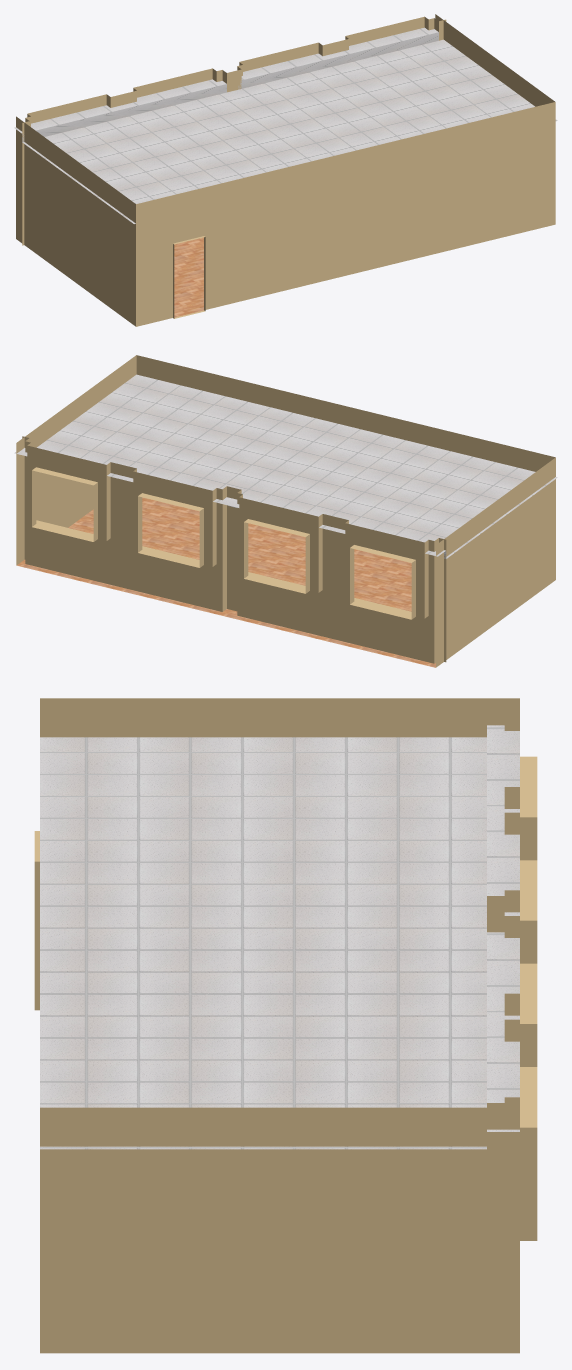
The model's file is room4_1.glb.
3 renders of one model, top to bottom at view 1: azimuth 30°, elevation 25°; view 2: azimuth 150°, elevation 25°; view 3: azimuth 270°, elevation 25°, orthographic. The views are drawn at different scales.
Parts seen in each view (by area): view 1: 4et.010; view 2: 4et.010; view 3: 4et.010.
Part boxes in pixels (left/top/right/bottom): 4et.010: left=14, top=14, right=557, bottom=326; 4et.010: left=14, top=355, right=557, bottom=667; 4et.010: left=34, top=698, right=537, bottom=1353.
Size of the model in its own units: 11.93 by 3.3 by 6.13.
3 materials, 2 textured.
